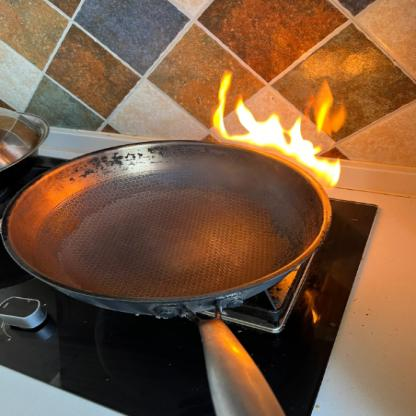fire: (214, 65, 362, 193)
